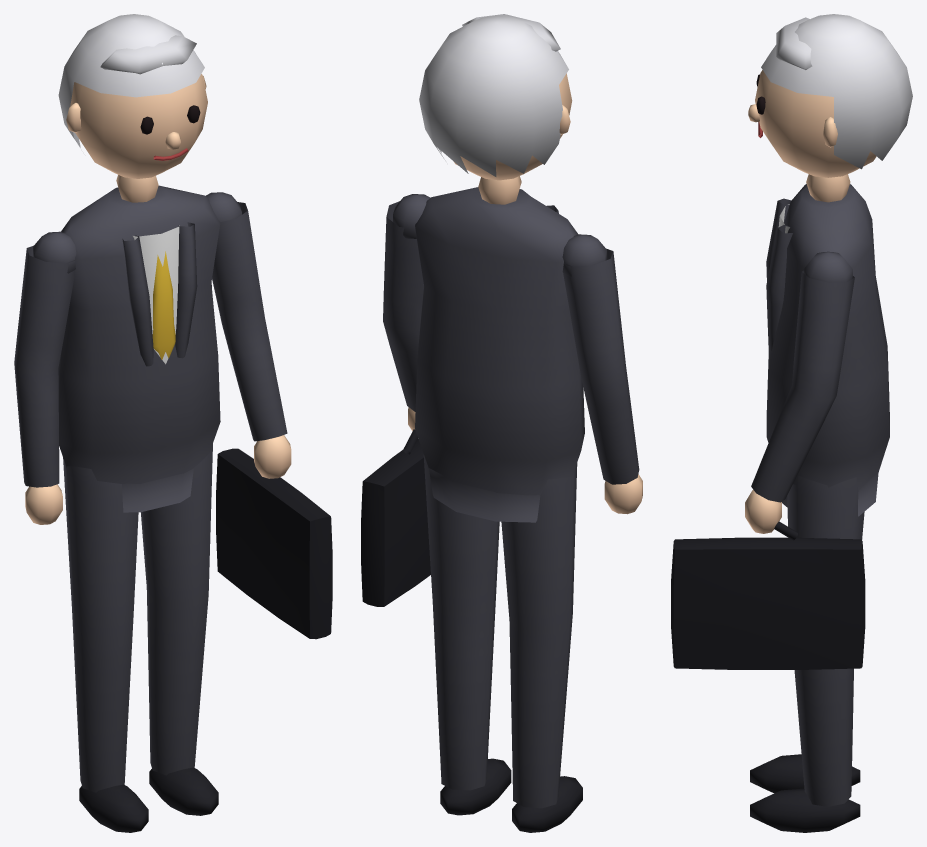
File: VIP_Investor.obj
3 renders of one model, left to right at view 1: azimuth 30°, elevation 25°; view 2: azimuth 150°, elevation 25°; view 3: azimuth 270°, elevation 25°, orthographic. The views are drawn at different scales.
Parts seen in each view (by area): view 1: Torso, LegR, Head, LegL, Prop, ArmR, ArmL; view 2: Torso, LegR, Head, LegL, ArmR, Prop, ArmL; view 3: Prop, Torso, Head, LegL, ArmL, LegR.
Part boxes in pixels (bbox=[...]): Torso: bbox=[58, 175, 220, 512]; LegR: bbox=[63, 458, 148, 832]; Head: bbox=[58, 14, 207, 178]; LegL: bbox=[141, 444, 218, 815]; Prop: bbox=[216, 448, 332, 639]; ArmR: bbox=[14, 231, 76, 524]; ArmL: bbox=[206, 192, 291, 478]; Torso: bbox=[415, 176, 584, 522]; LegR: bbox=[501, 463, 582, 832]; Head: bbox=[419, 14, 572, 180]; LegL: bbox=[423, 454, 511, 815]; ArmR: bbox=[562, 234, 642, 514]; Prop: bbox=[361, 429, 430, 606]; ArmL: bbox=[383, 194, 429, 430]; Prop: bbox=[671, 521, 865, 669]; Torso: bbox=[766, 174, 889, 516]; Head: bbox=[748, 14, 912, 177]; LegL: bbox=[750, 475, 864, 832]; ArmL: bbox=[745, 251, 854, 533]; LegR: bbox=[750, 754, 860, 793].
Size of the model in its own units: 0.6257 by 1.91 by 0.5289.
Materials: 1 (1 with a texture image).
